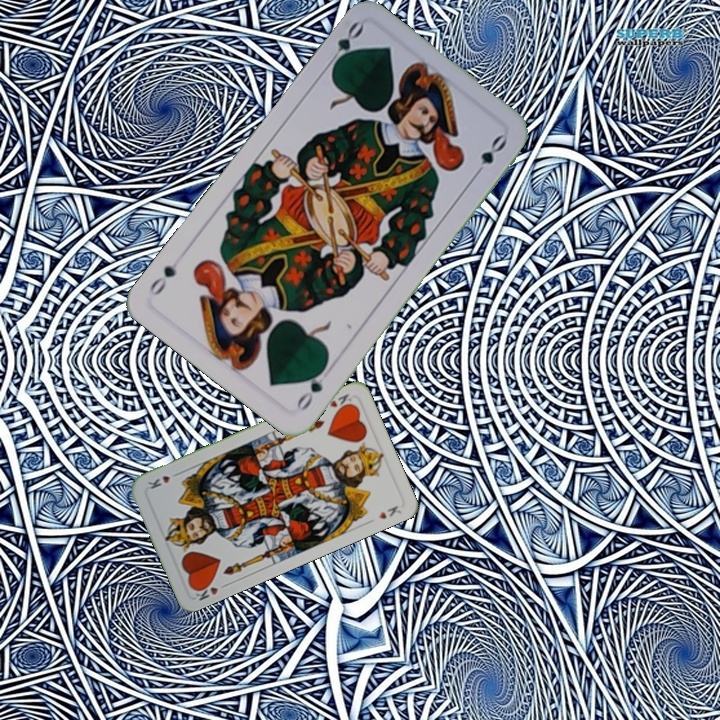GO: (322, 17, 366, 73), (292, 361, 330, 414)
HK: (190, 578, 231, 603), (325, 390, 355, 414)
